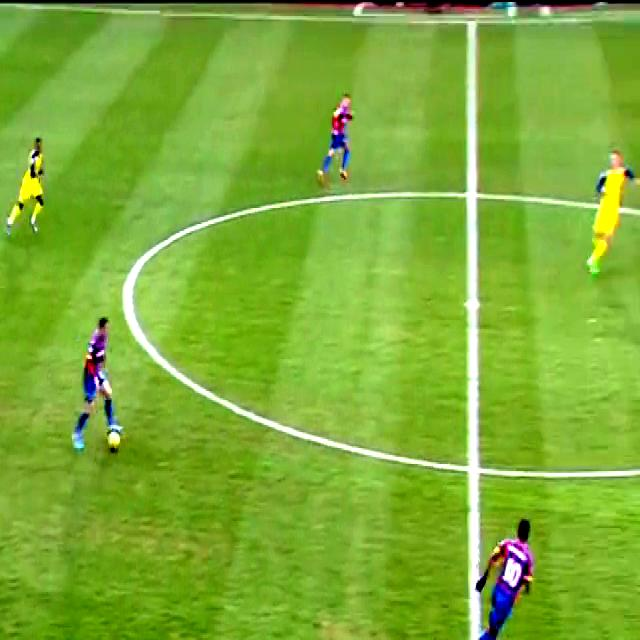ball: (106, 425, 124, 458)
soccer-player: (454, 514, 546, 640), (64, 305, 127, 452), (584, 140, 640, 275), (4, 132, 55, 244), (315, 91, 364, 191), (0, 466, 1, 613)
